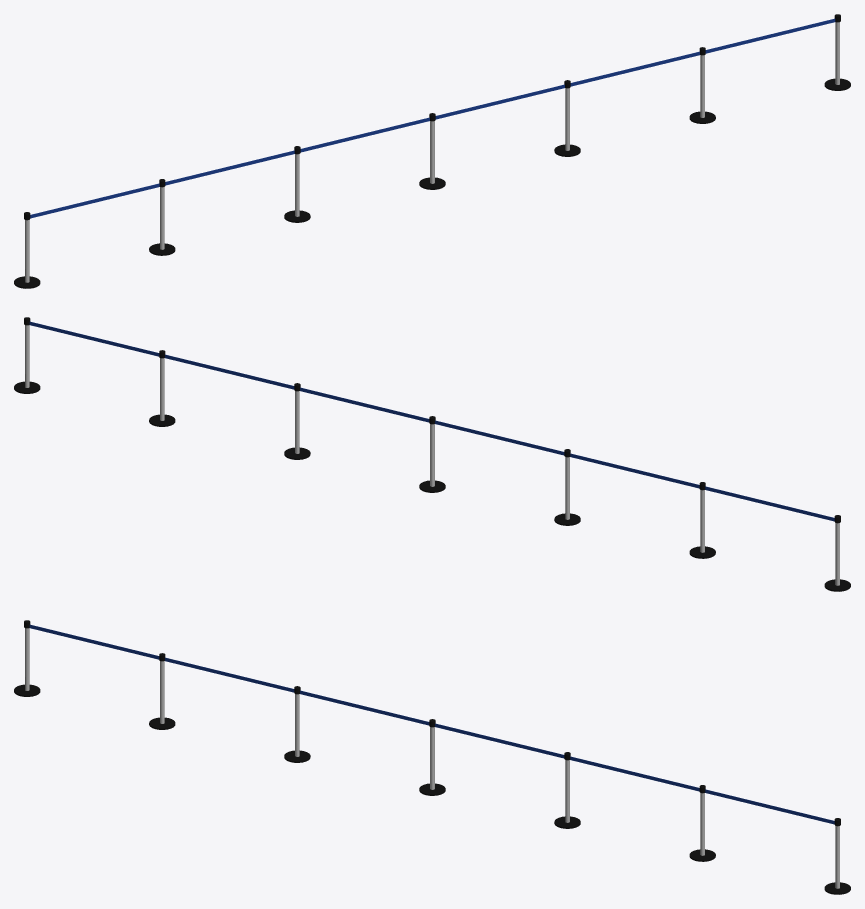
File: airport.queue.run_6.glb
3 renders of one model, top to bottom at view 1: azimuth 30°, elevation 25°; view 2: azimuth 150°, elevation 25°; view 3: azimuth 330°, elevation 25°, orthographic.
Parts seen in each view (by area): view 1: main__plastic_blue, main__plastic_black, main__steel_stainless; view 2: main__plastic_blue, main__plastic_black, main__steel_stainless; view 3: main__plastic_blue, main__plastic_black, main__steel_stainless.
Part boxes in pixels (bbox=[...]): main__plastic_blue: bbox=[30, 18, 835, 218]; main__plastic_black: bbox=[14, 14, 850, 288]; main__steel_stainless: bbox=[25, 22, 839, 282]; main__plastic_blue: bbox=[29, 321, 834, 521]; main__plastic_black: bbox=[14, 317, 850, 591]; main__steel_stainless: bbox=[25, 325, 839, 585]; main__plastic_blue: bbox=[29, 624, 834, 824]; main__plastic_black: bbox=[14, 620, 850, 894]; main__steel_stainless: bbox=[25, 628, 839, 888].
Size of the model in its own units: 12.34 by 0.99 by 0.34.
